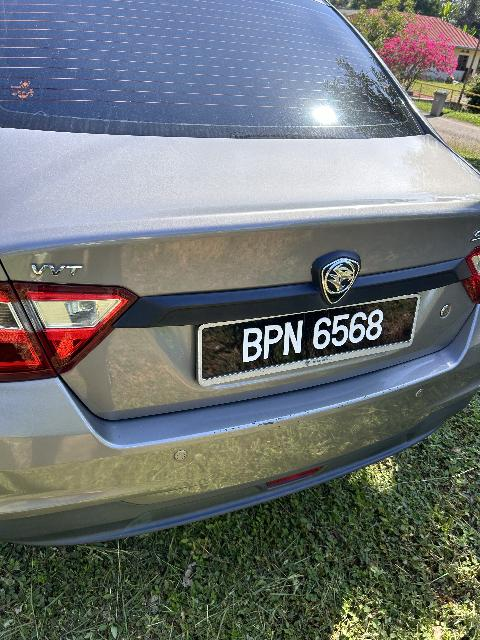License_Plate: (199, 288, 421, 397)
car: (1, 2, 480, 559)
